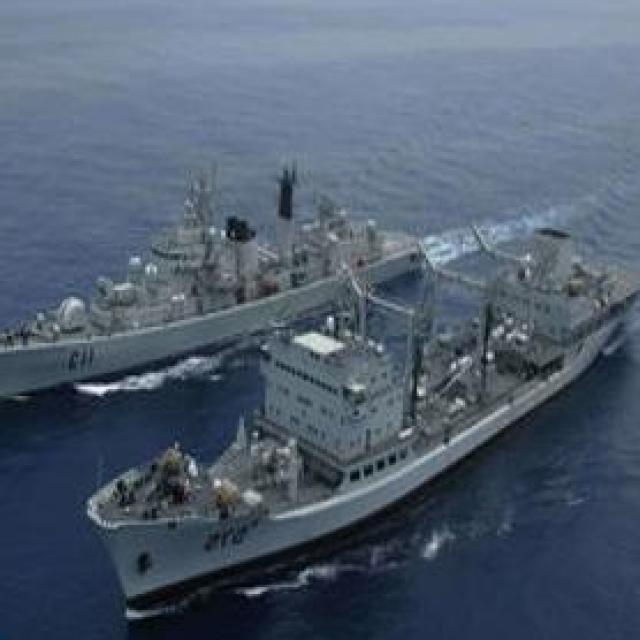navalvessels: (101, 223, 640, 638), (0, 168, 426, 398)
